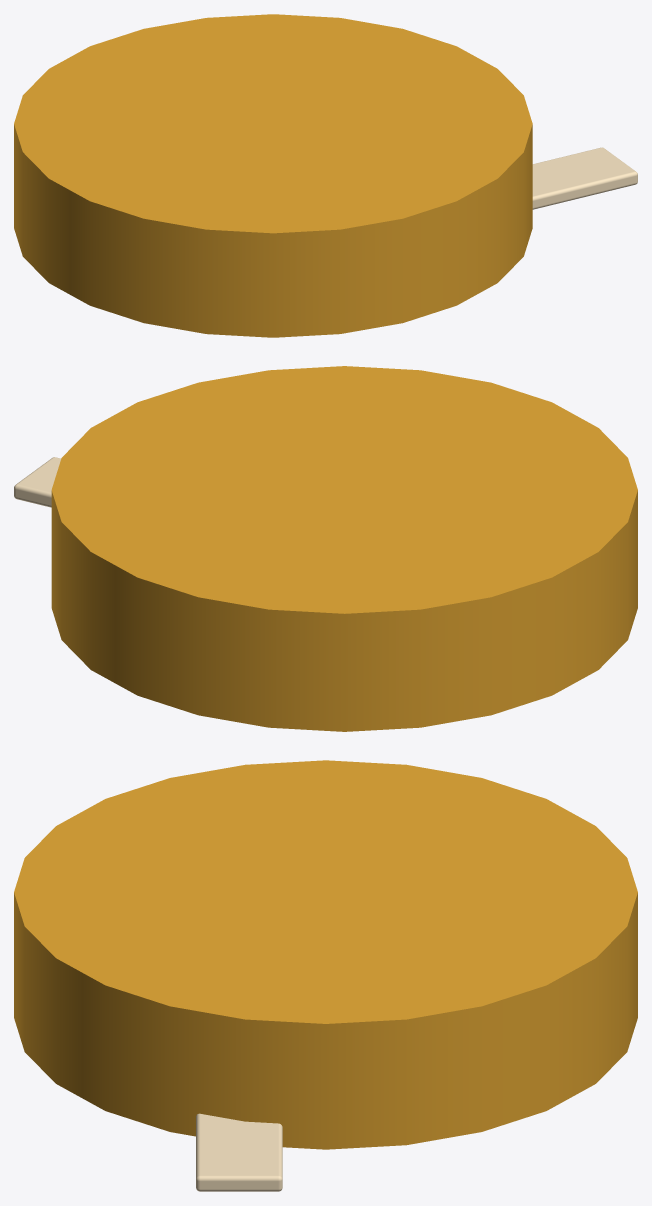
Rendered from obstaculo_metro.glb.
The picture shows the model from 3 angles, top to bottom: view 1: azimuth 30°, elevation 25°; view 2: azimuth 150°, elevation 25°; view 3: azimuth 270°, elevation 25°; orthographic projection. The views are drawn at different scales.
Visible parts, largest first — view 1: Metro, Cinta; view 2: Metro, Cinta; view 3: Metro, Cinta.
Part boxes in pixels (<box>): Metro: <box>14,14,532,337</box>; Cinta: <box>532,147,637,209</box>; Metro: <box>51,366,637,731</box>; Cinta: <box>14,457,60,507</box>; Metro: <box>14,760,637,1149</box>; Cinta: <box>196,1113,282,1191</box>.
Bounding box in the file's own units: 0.86 × 0.16 × 0.72.
